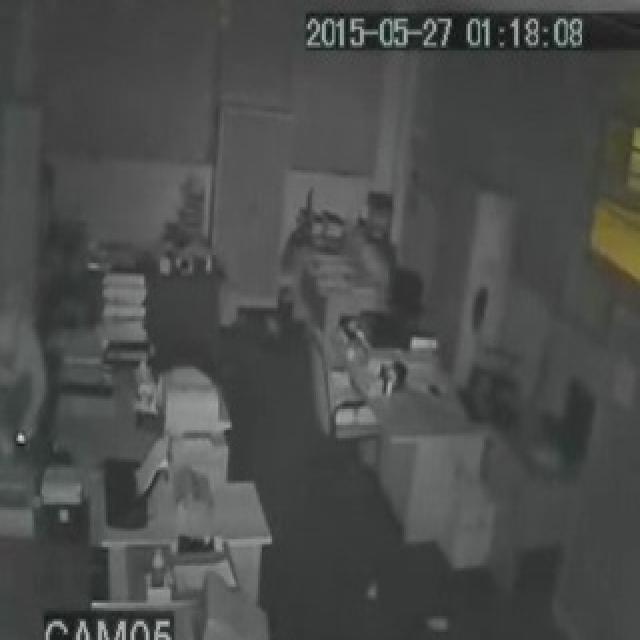thief: (0, 277, 59, 435)
